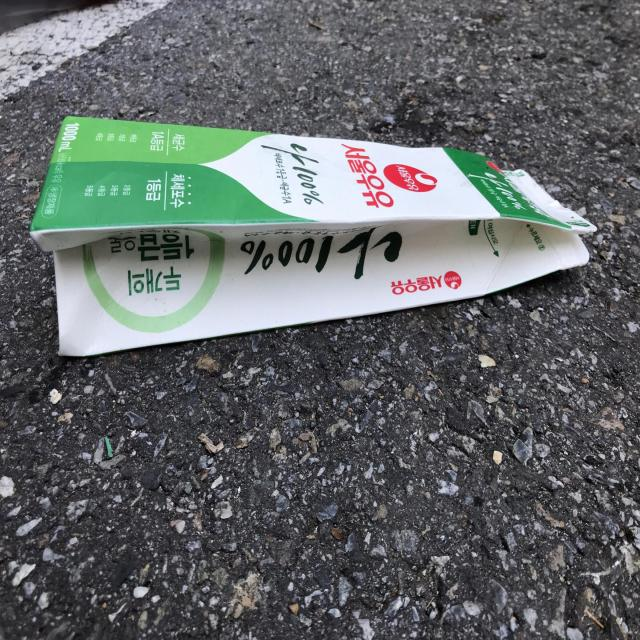paperpack: (30, 115, 596, 356)
